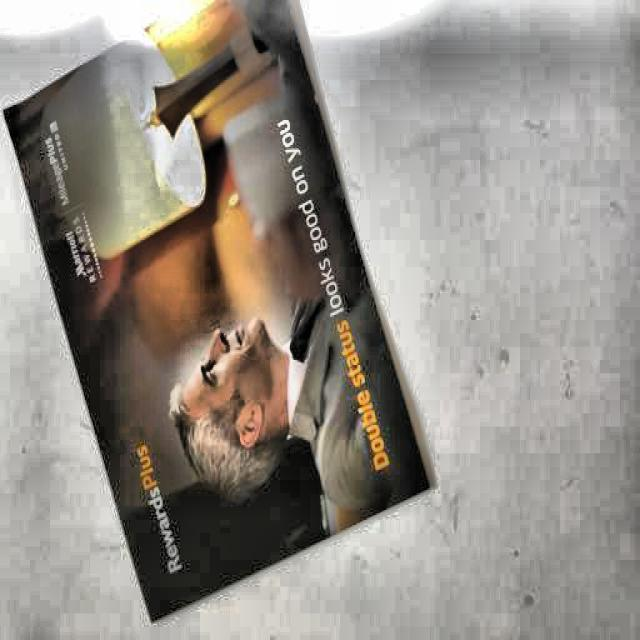paper: (1, 45, 436, 561)
